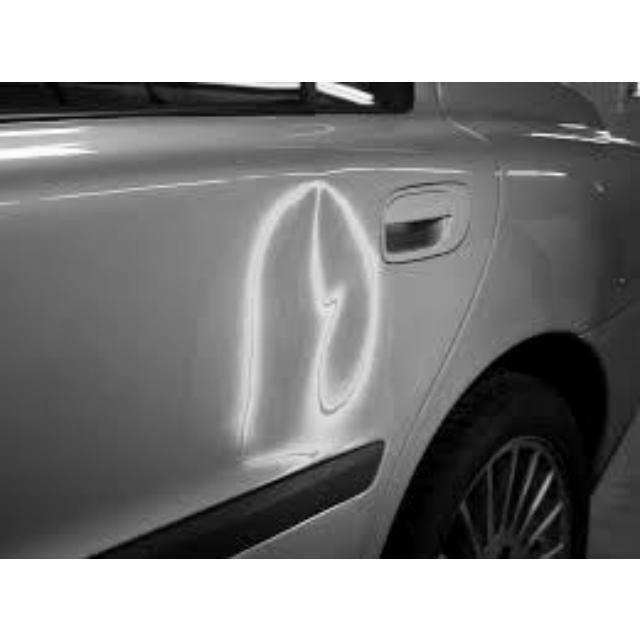doorouter-dent: (156, 155, 471, 556)
